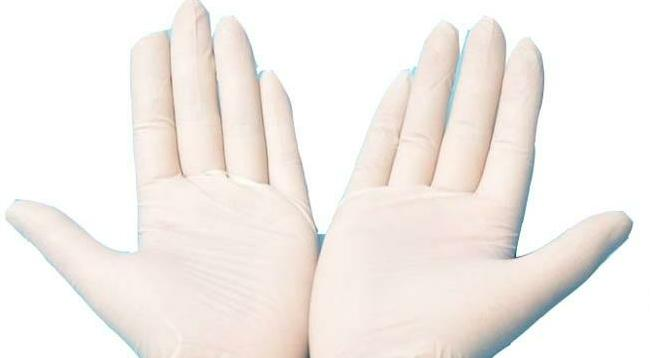gloves: (7, 1, 637, 358)
